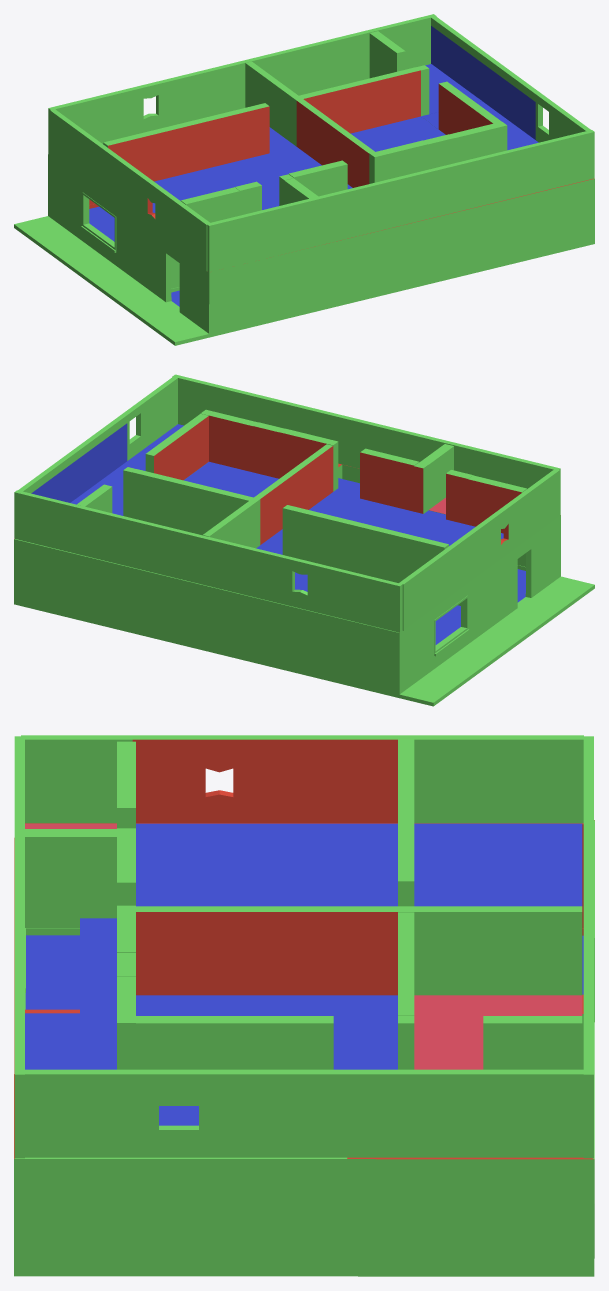
Rendered from House.fbx.
3 views of the same model, one above another, from view 1: azimuth 30°, elevation 25°; view 2: azimuth 150°, elevation 25°; view 3: azimuth 270°, elevation 25° (orthographic). The views are drawn at different scales.
Parts seen in each view (by area): view 1: Wall_Living/Kitchen; view 2: Wall_Living/Kitchen; view 3: Wall_Living/Kitchen.
Boxes of the visible parts, bbox=[...] form: Wall_Living/Kitchen: bbox=[14, 14, 594, 345]; Wall_Living/Kitchen: bbox=[14, 374, 594, 706]; Wall_Living/Kitchen: bbox=[14, 735, 594, 1276].
Bounding box in the file's own units: 2793 × 718 × 1860.
